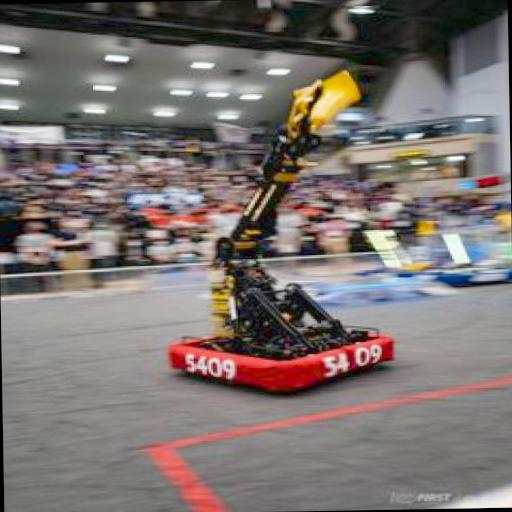robot: (149, 64, 438, 404)
